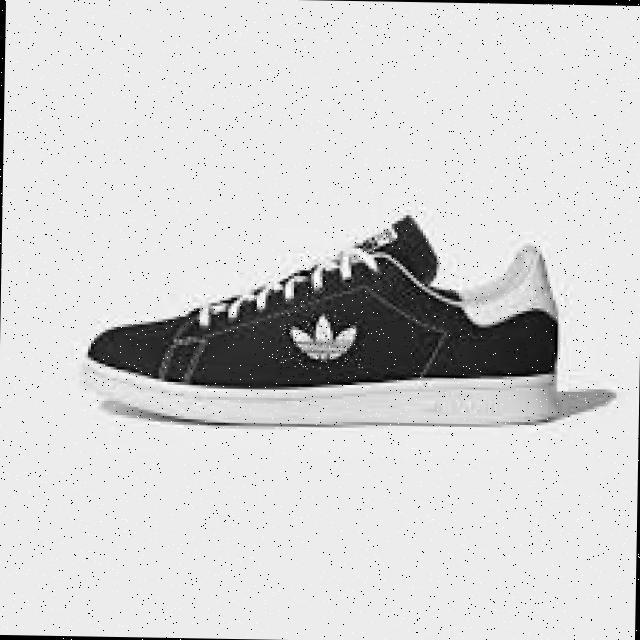Adidas: (280, 311, 365, 371)
